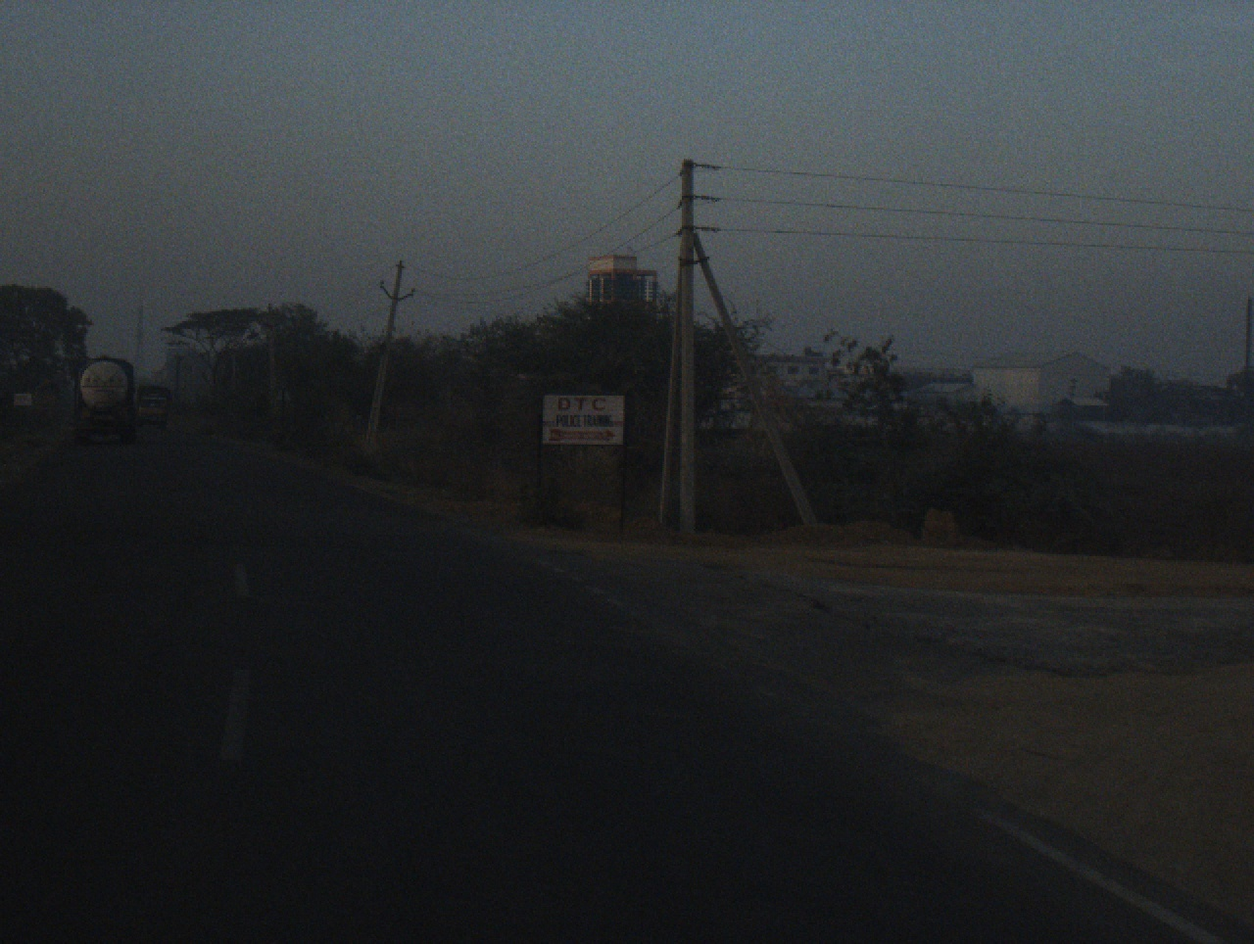truck: (77, 347, 136, 446), (134, 381, 169, 433)
